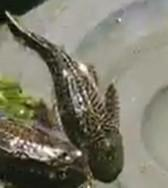Janitor Fish: (4, 9, 125, 184), (2, 114, 86, 188)
